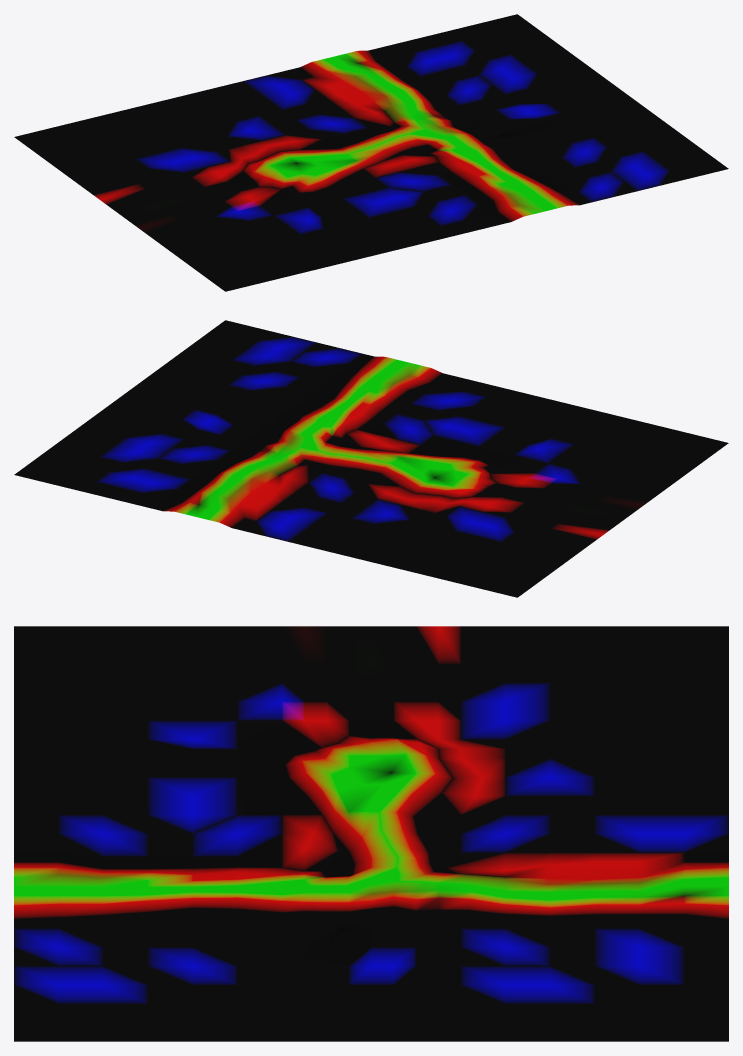
File: Section_WaySafePlace01_Steppe_RuinVillage_Terrain.fbx
3 renders of one model, top to bottom at view 1: azimuth 30°, elevation 25°; view 2: azimuth 150°, elevation 25°; view 3: azimuth 270°, elevation 25°, orthographic. The views are drawn at different scales.
Parts seen in each view (by area): view 1: Section_WaySafePlace01_Steppe_RuinVillage_Terrain; view 2: Section_WaySafePlace01_Steppe_RuinVillage_Terrain; view 3: Section_WaySafePlace01_Steppe_RuinVillage_Terrain.
Boxes of the visible parts, <box> form: Section_WaySafePlace01_Steppe_RuinVillage_Terrain: <box>14,14,728,291</box>; Section_WaySafePlace01_Steppe_RuinVillage_Terrain: <box>14,320,728,597</box>; Section_WaySafePlace01_Steppe_RuinVillage_Terrain: <box>14,626,728,1041</box>.
Bounding box in the file's own units: 11000 × 161 × 8000.
